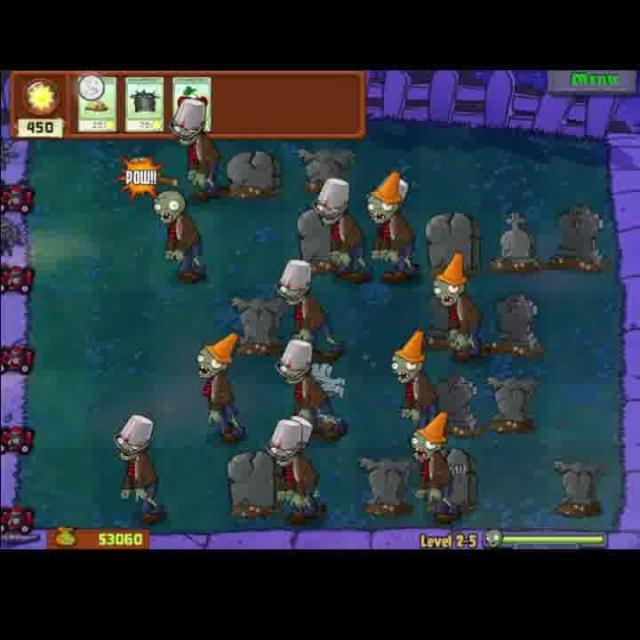coins: (76, 70, 108, 108)
zombies: (290, 175, 366, 279), (258, 412, 324, 522), (360, 167, 420, 285), (108, 410, 166, 528), (166, 89, 227, 200), (266, 339, 334, 436), (190, 328, 244, 443), (278, 256, 339, 356), (152, 185, 204, 287), (405, 410, 455, 516), (432, 255, 483, 358), (390, 332, 440, 430)
